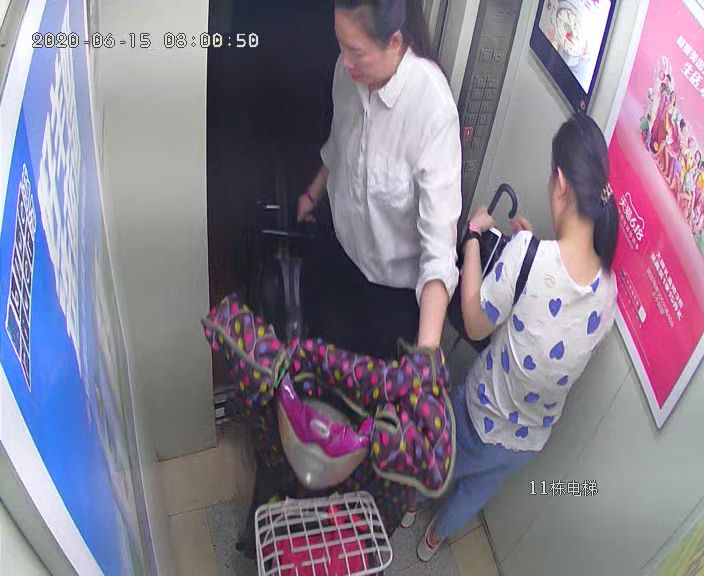Electric-bicycle: (204, 177, 457, 572)
